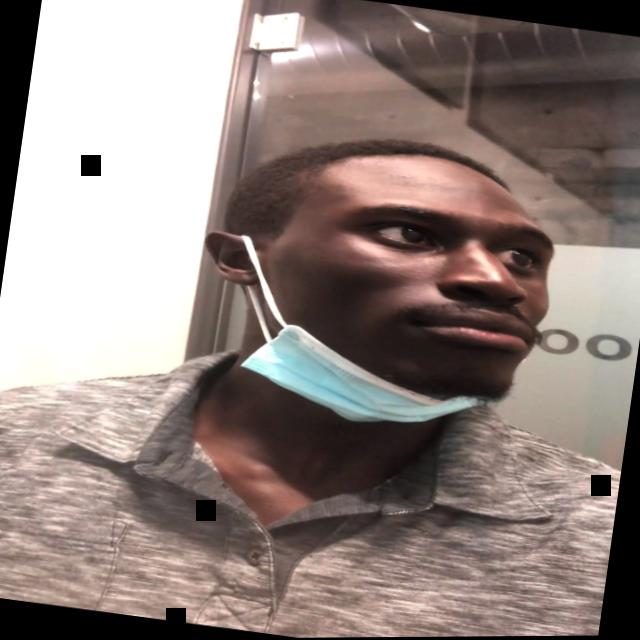NO-Mask: (243, 143, 570, 407)
